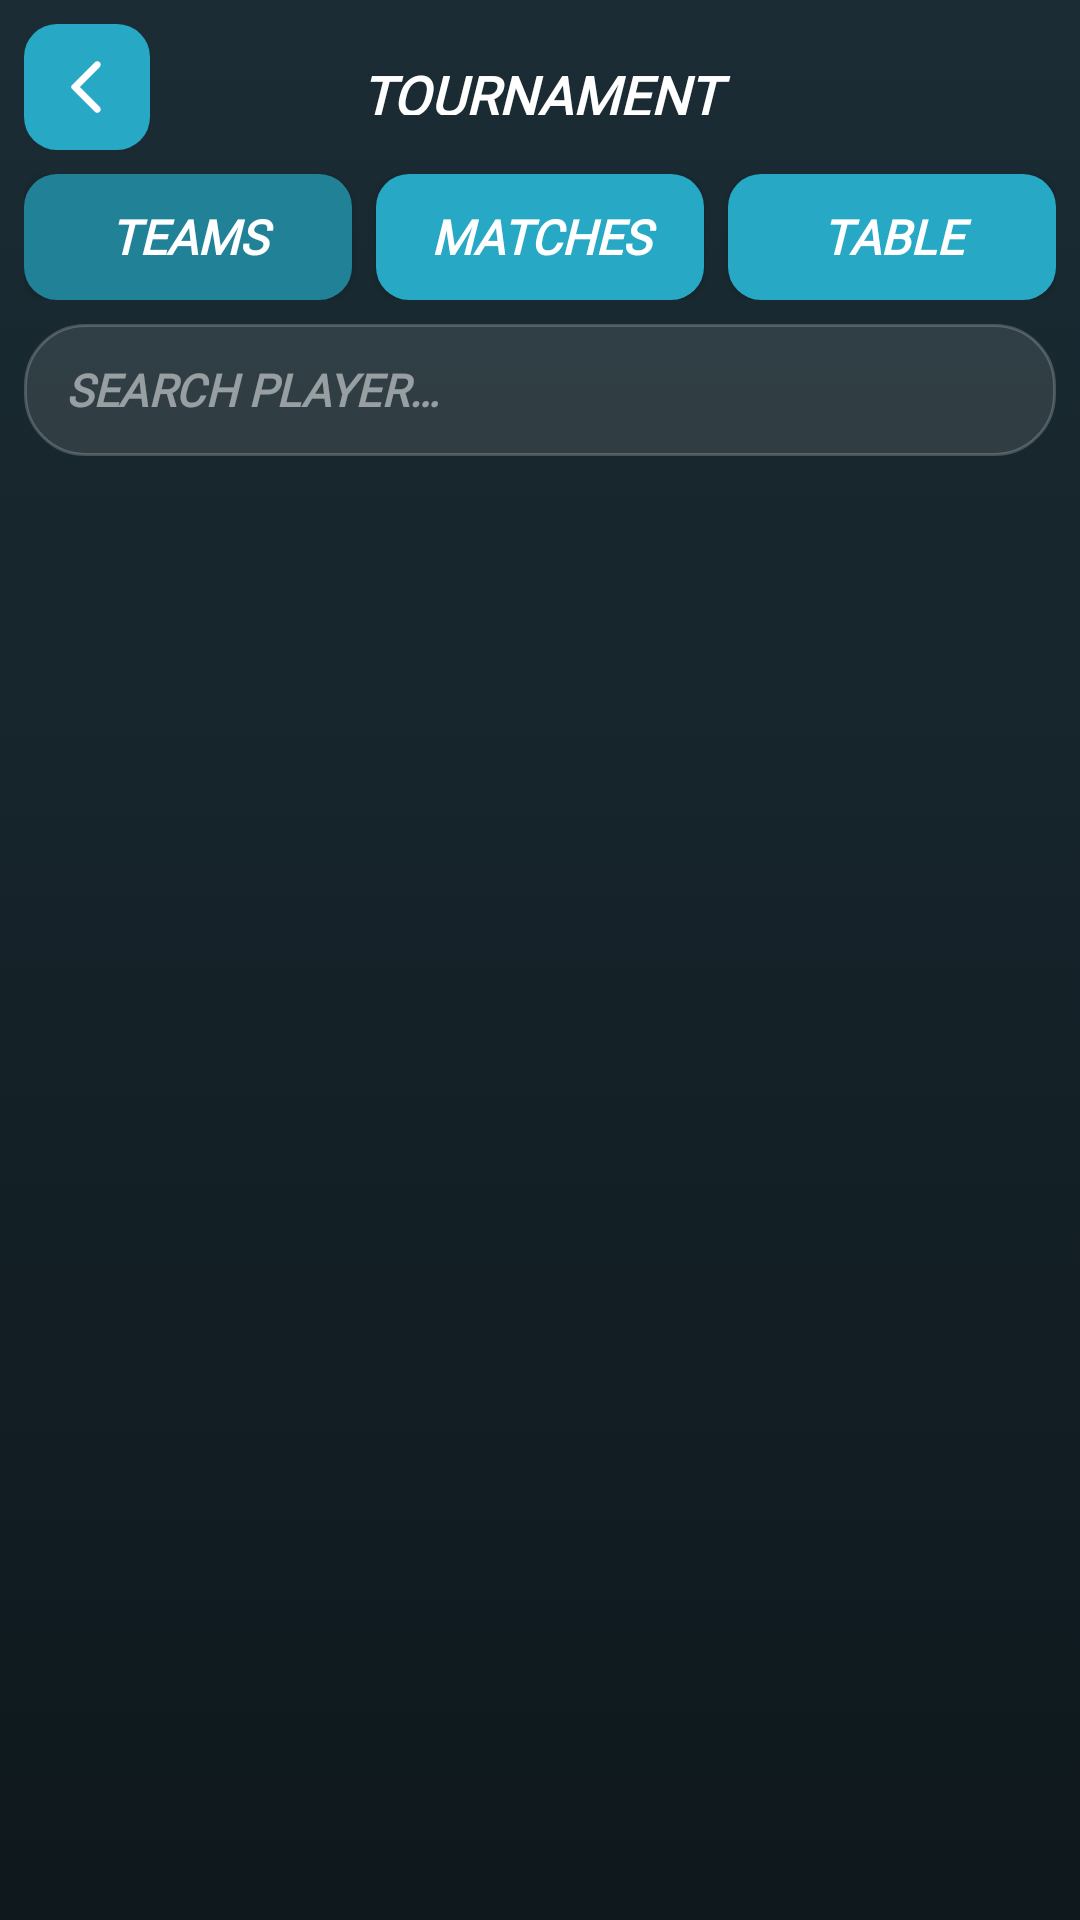

Locate icon controls on the screen. Image size 1080 × 1920, boxes as box=[x1, y1, x2, y2].
BACK: box=[24, 24, 150, 150]
